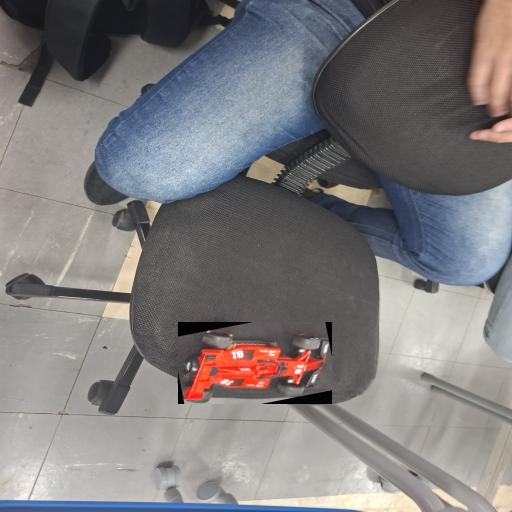carro: (178, 323, 331, 403)
